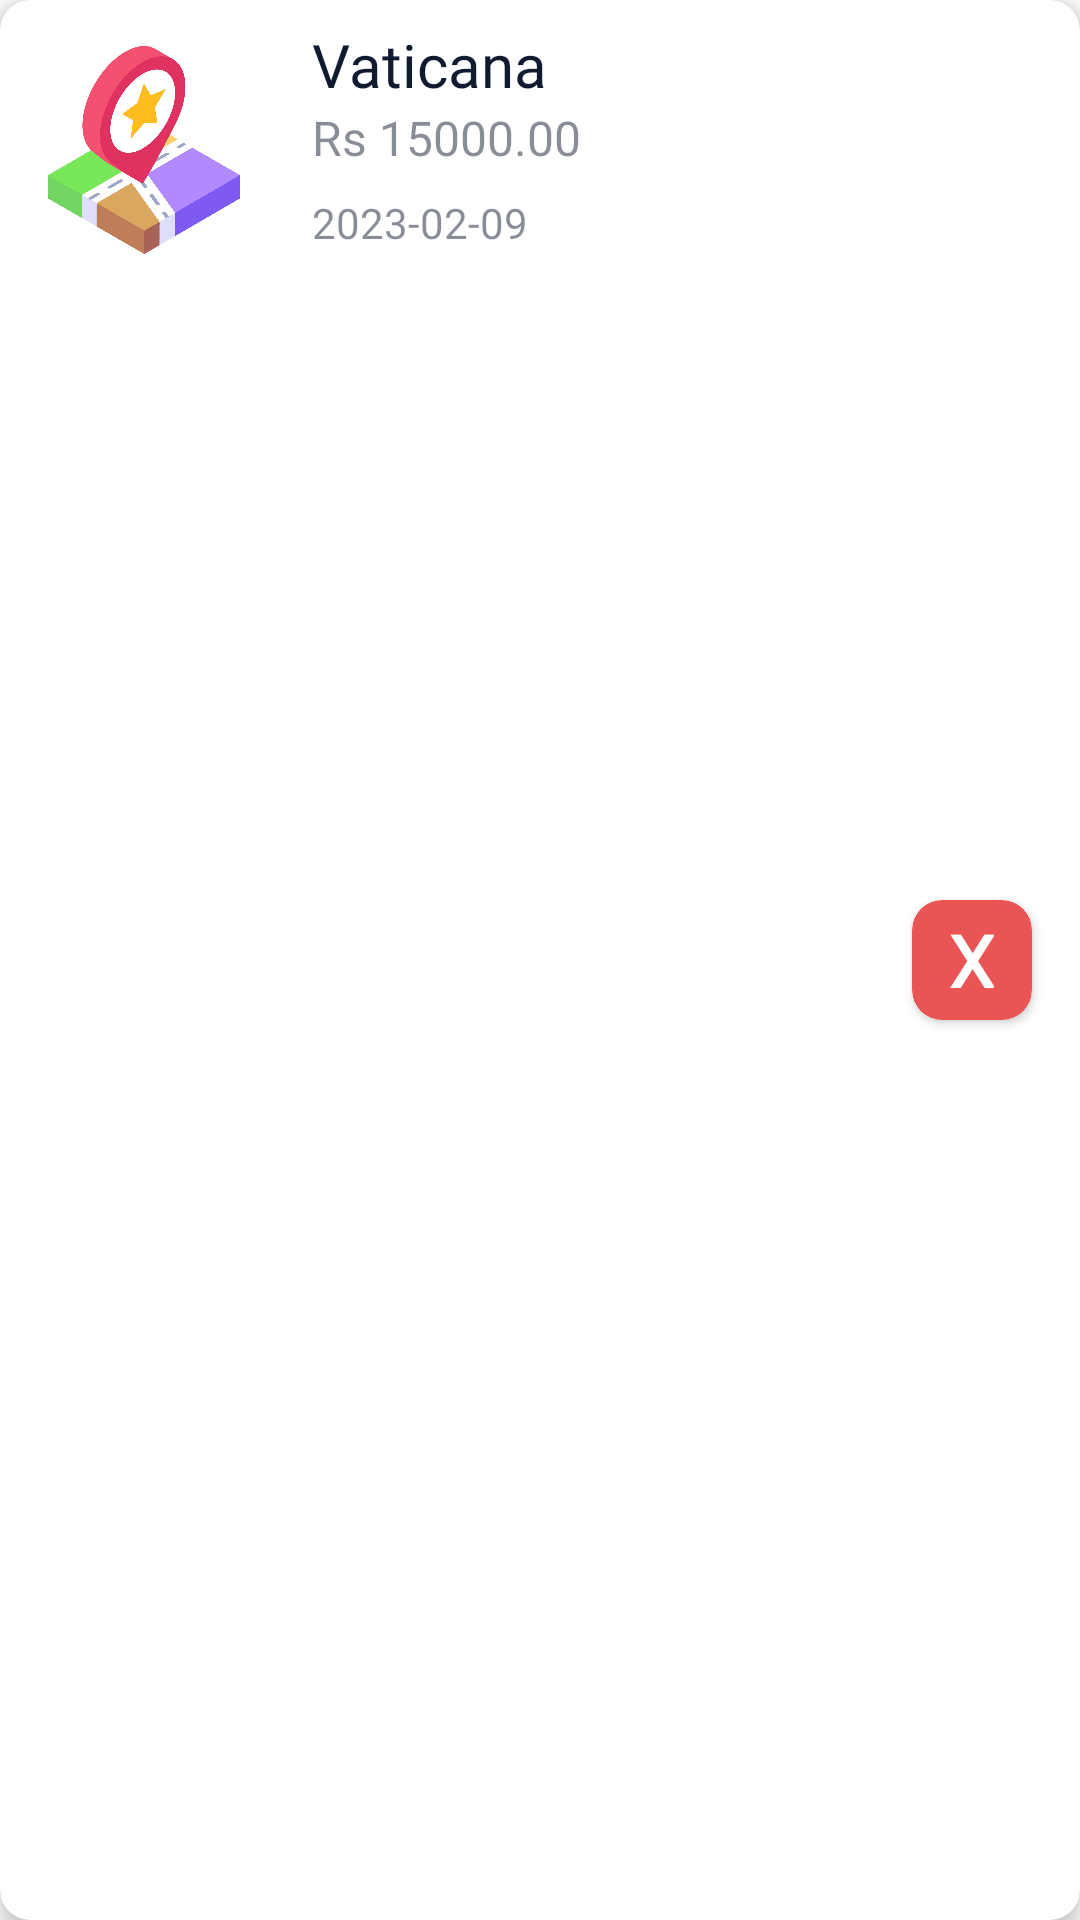

Named icons in this screenshot (1080 × 1920) and their centers, point (x, y):
favplaceholder: point (144, 150)
